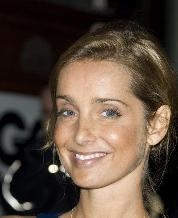face: (57, 94, 119, 166)
